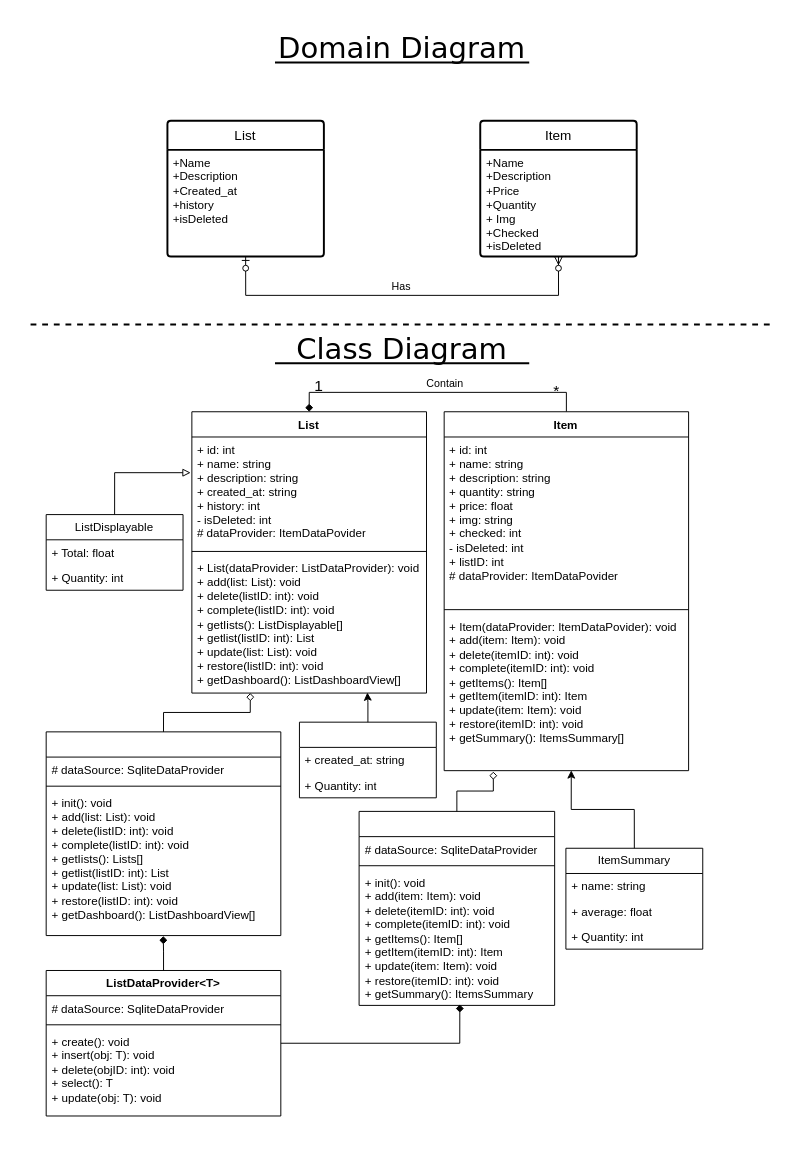
The diagram is 809 pixels wide and 1154 high, and some of its shapes have lost their labels. Each missing label, with the box of its shape:
ItemDataProvider: (358, 810, 555, 1005)
ListDashboardView: (298, 721, 436, 798)
ListDataProvider: (45, 731, 281, 936)
